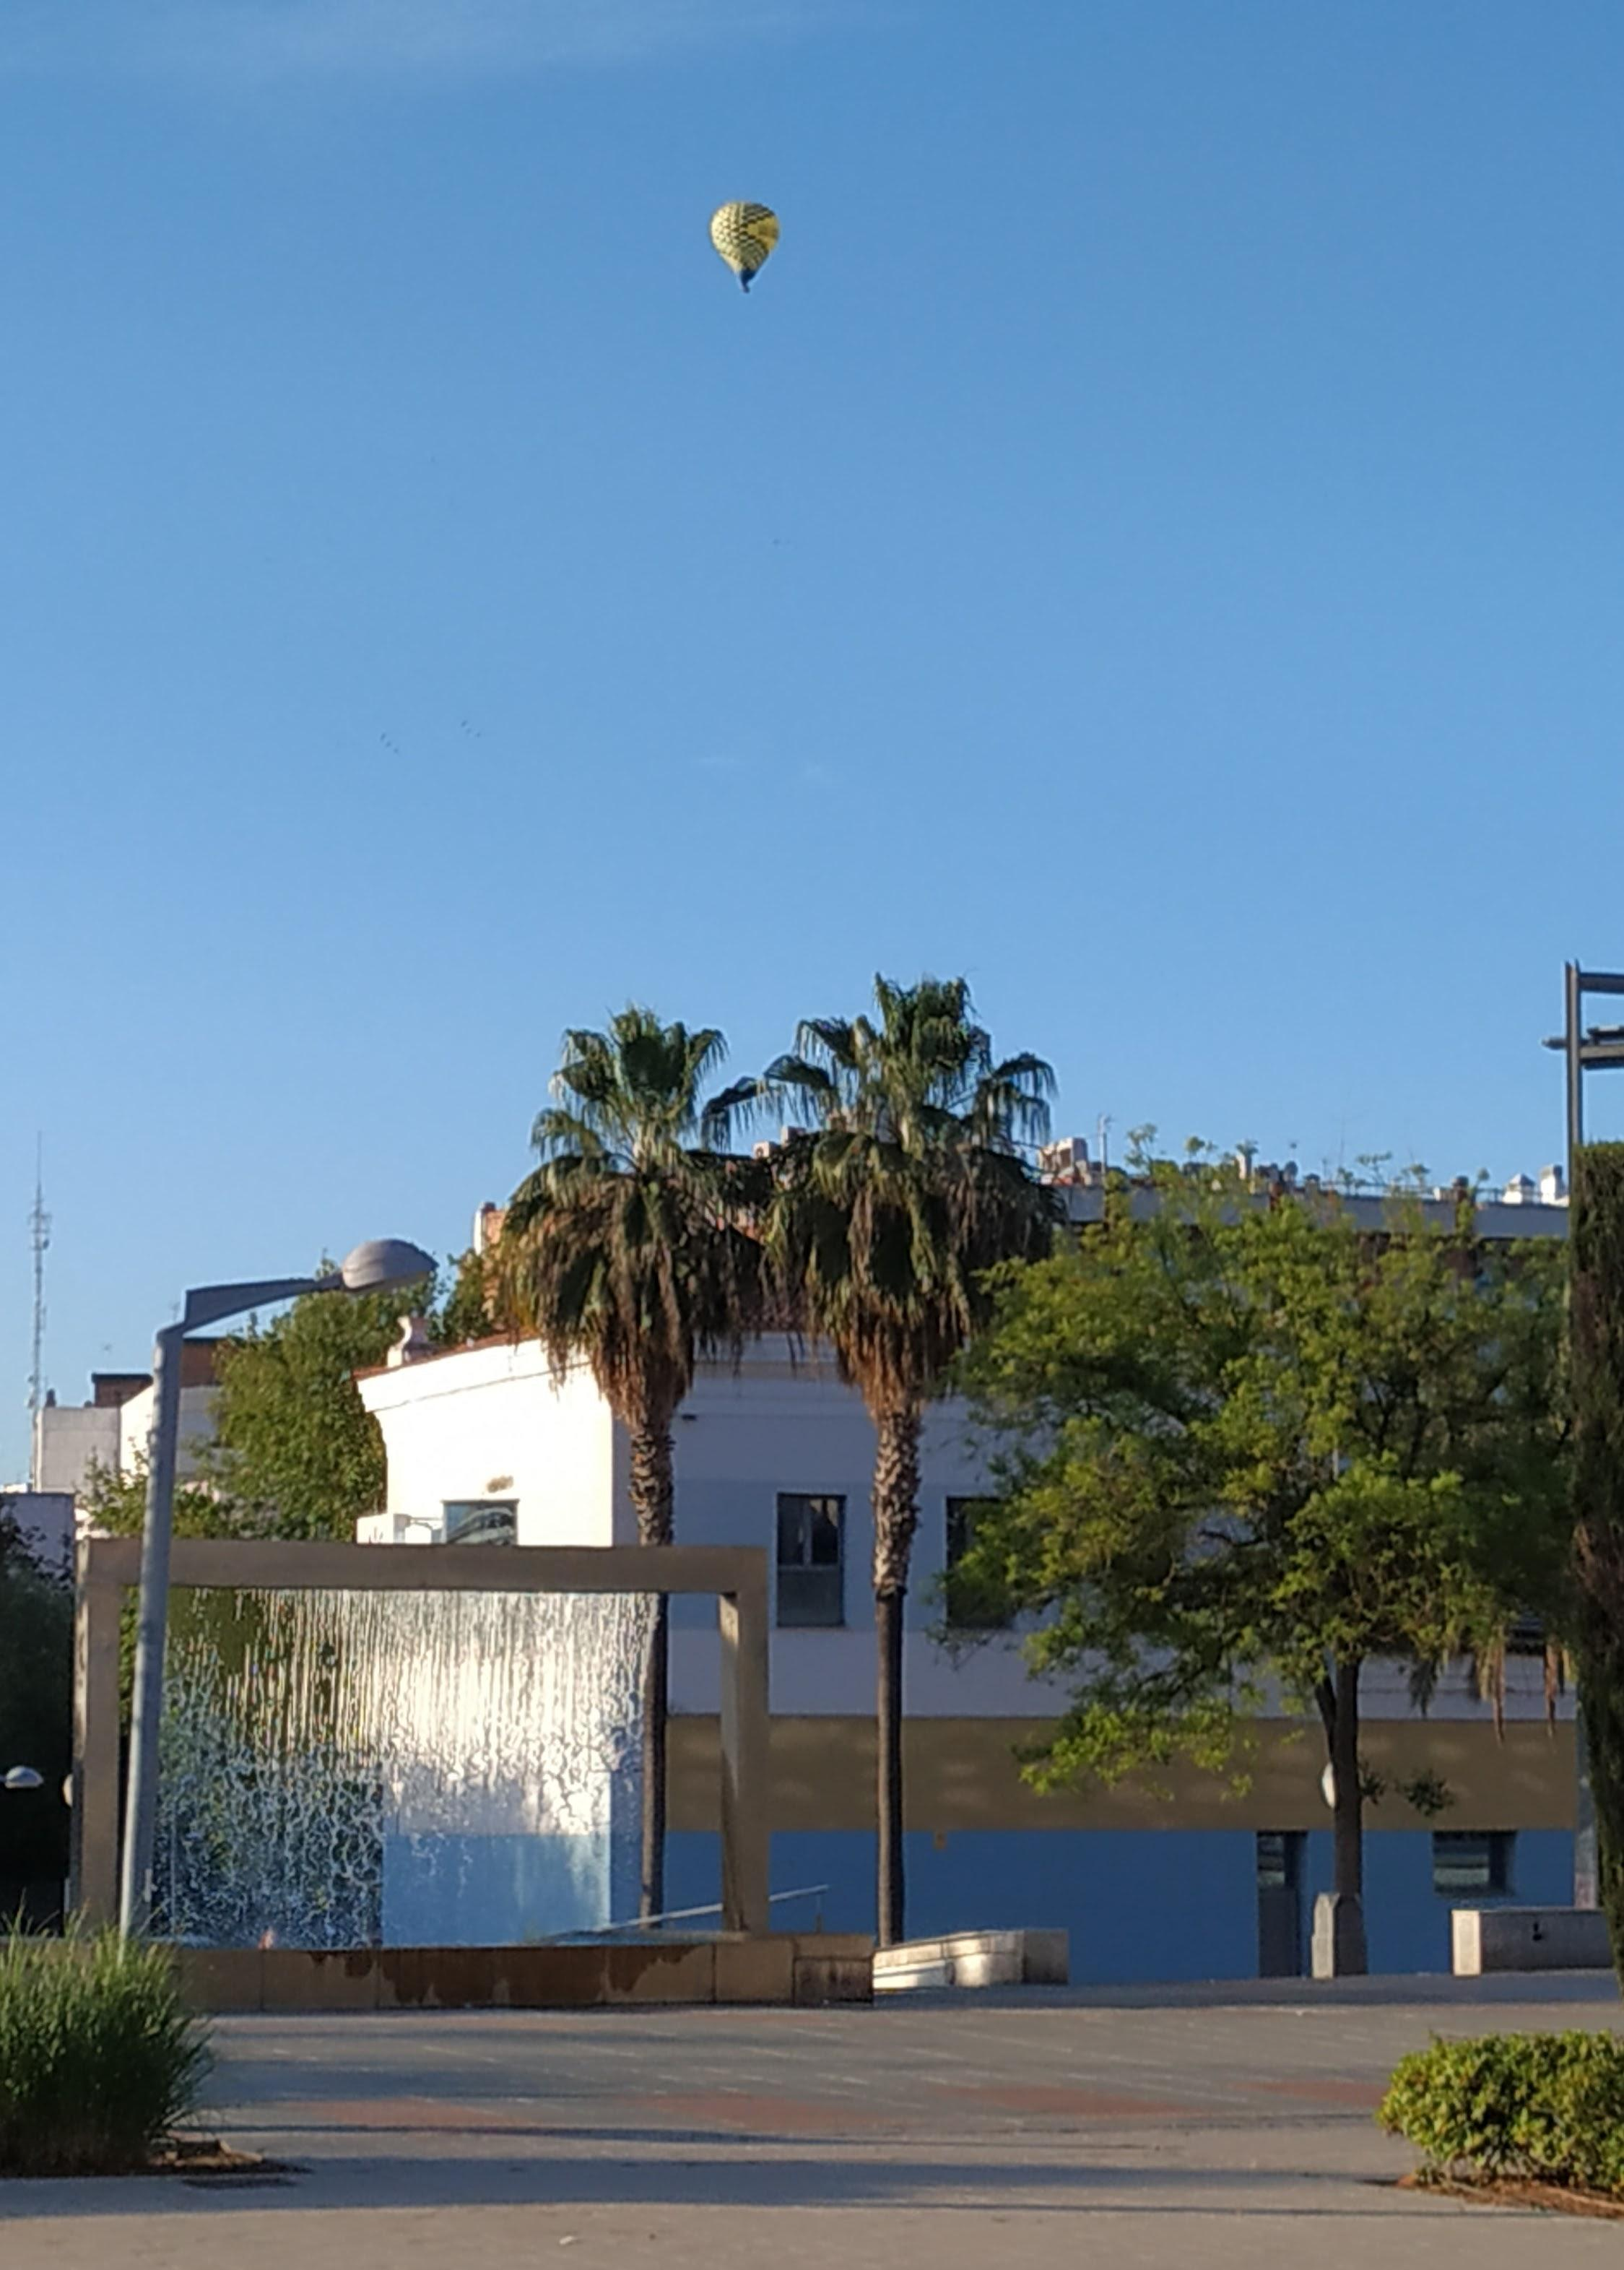hot air ballon: (708, 200, 780, 294)
